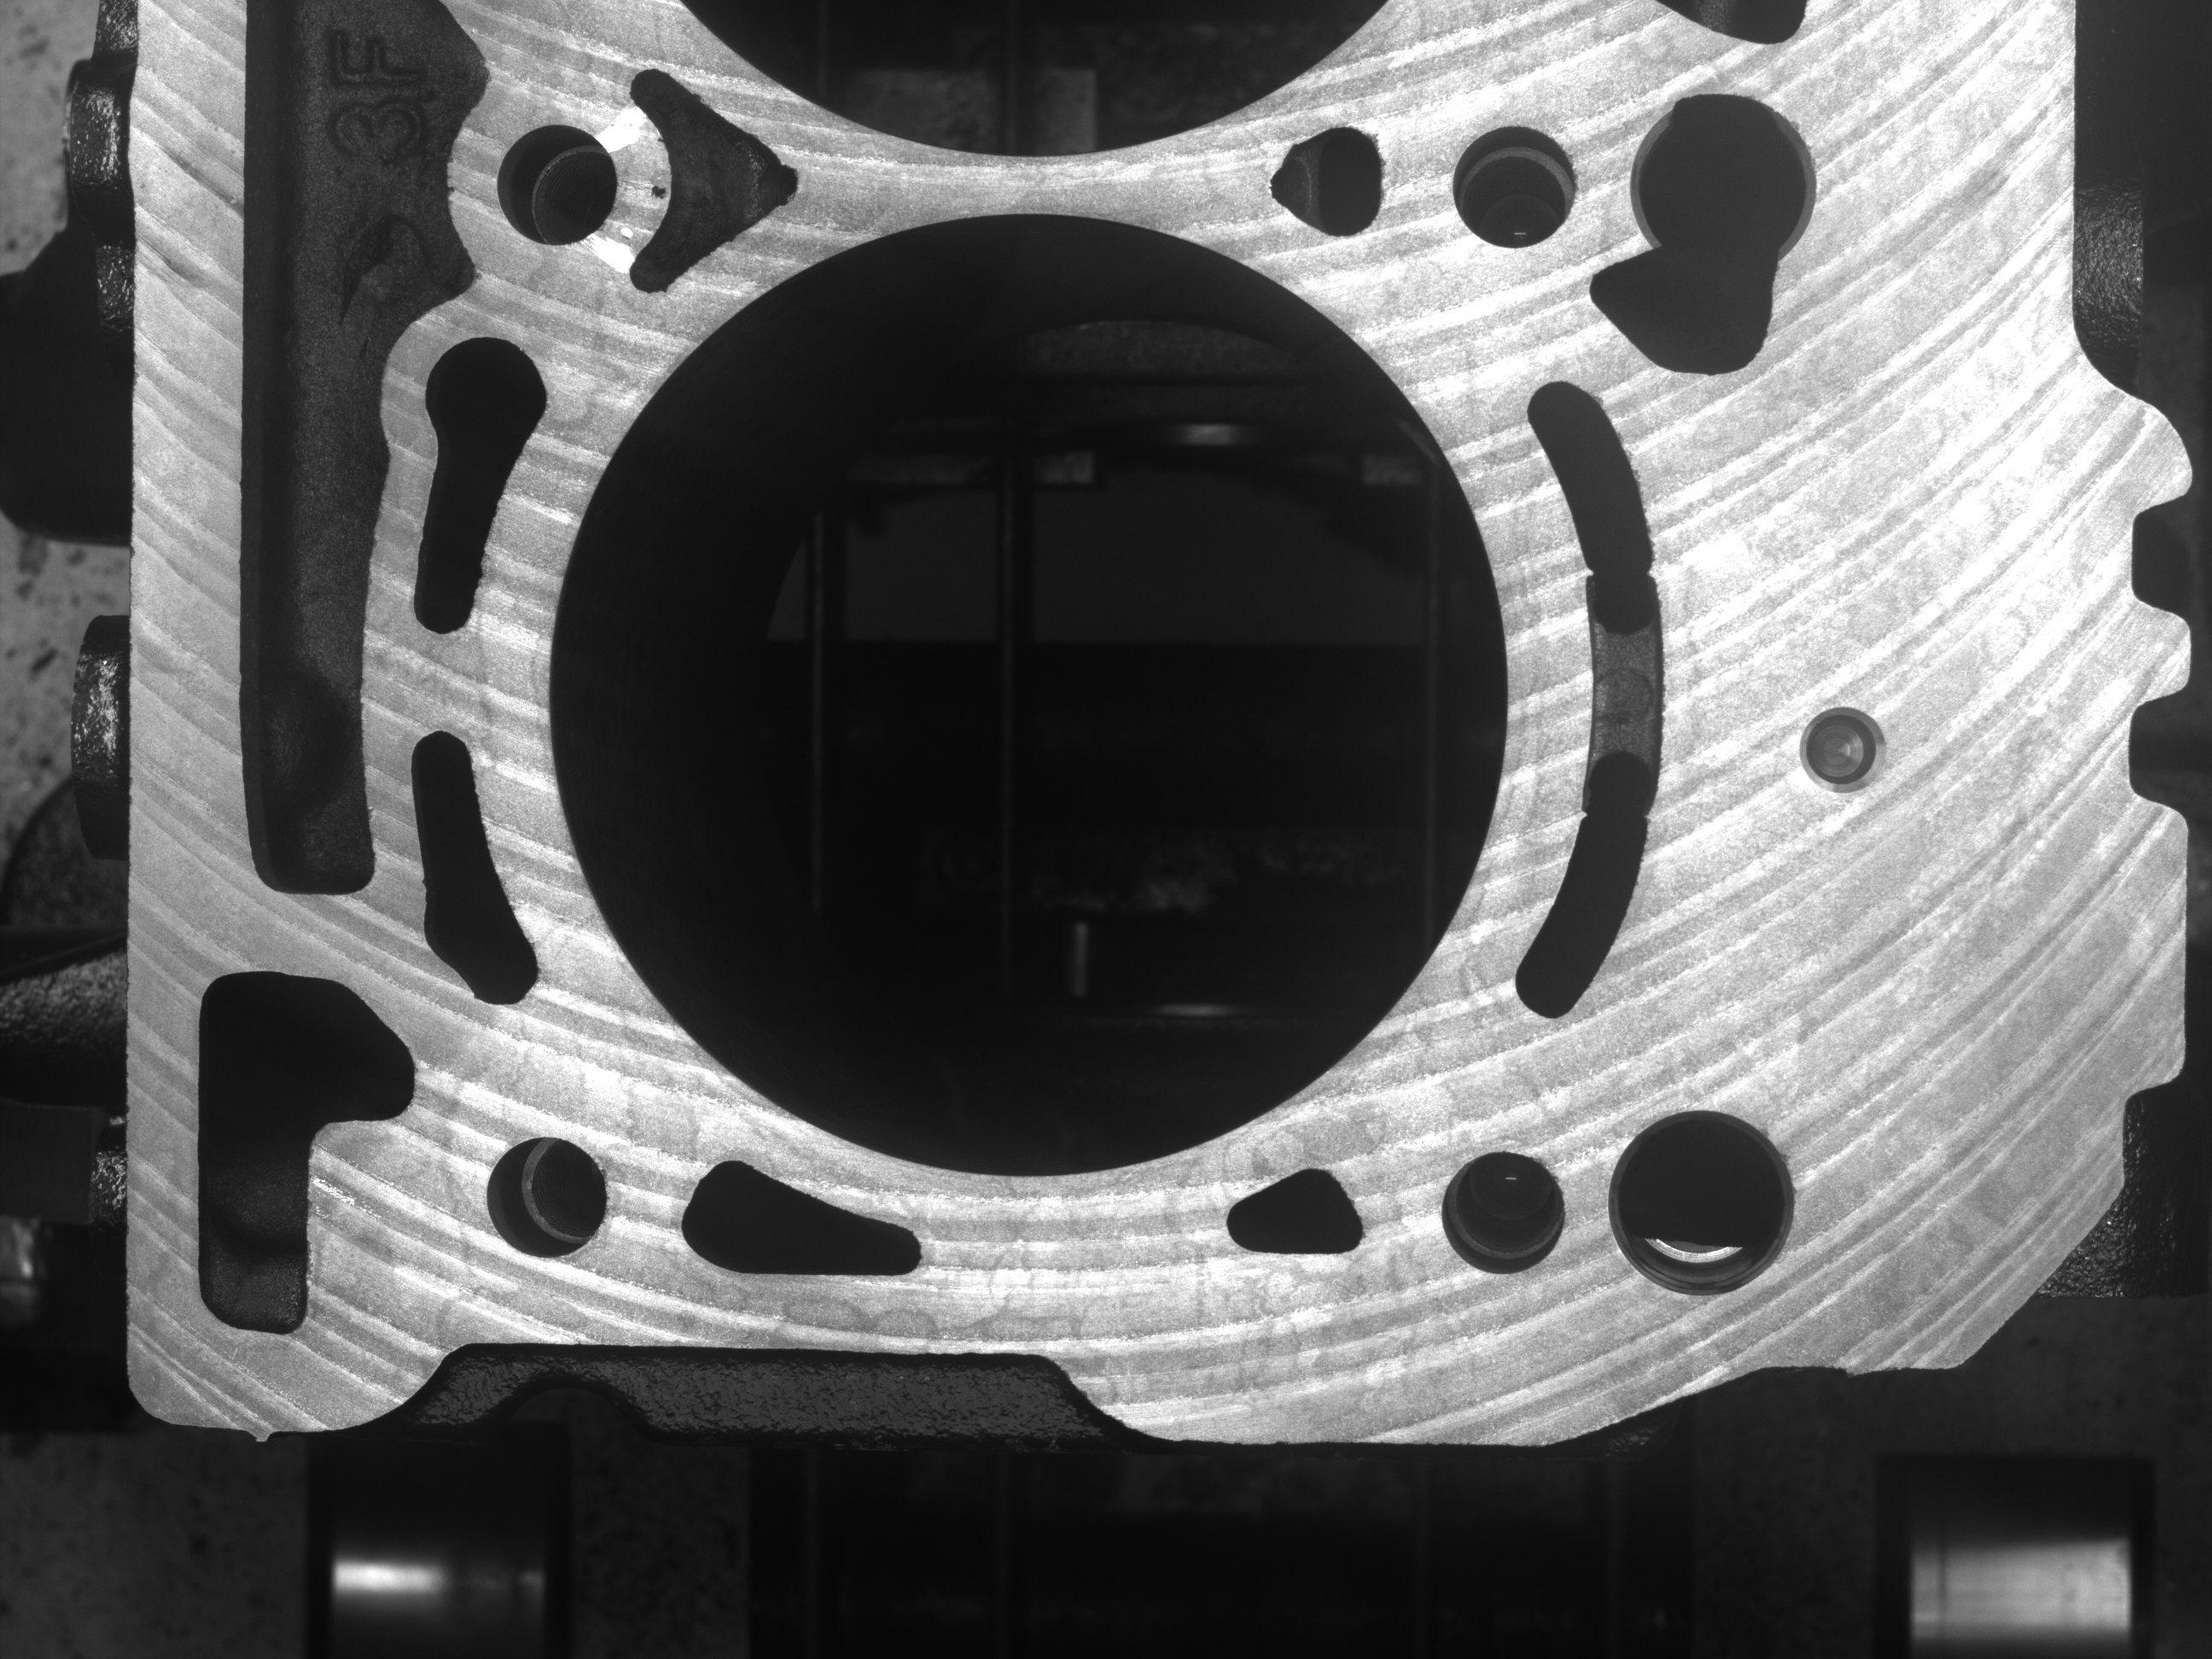crackle: (608, 164, 665, 213)
